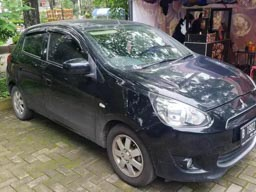plat: (239, 121, 256, 143)
